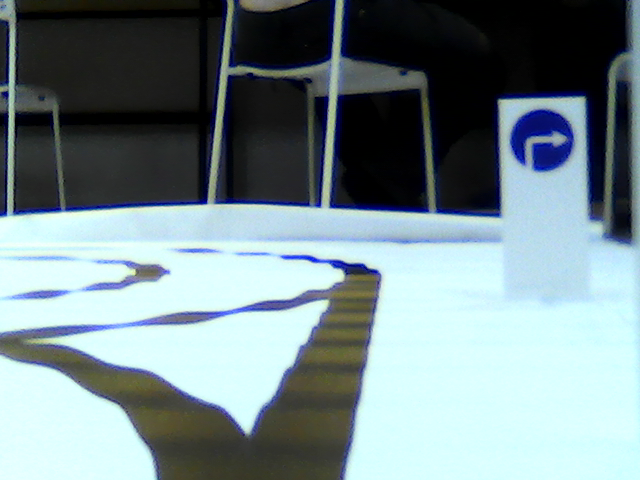Right: (510, 108, 575, 170)
